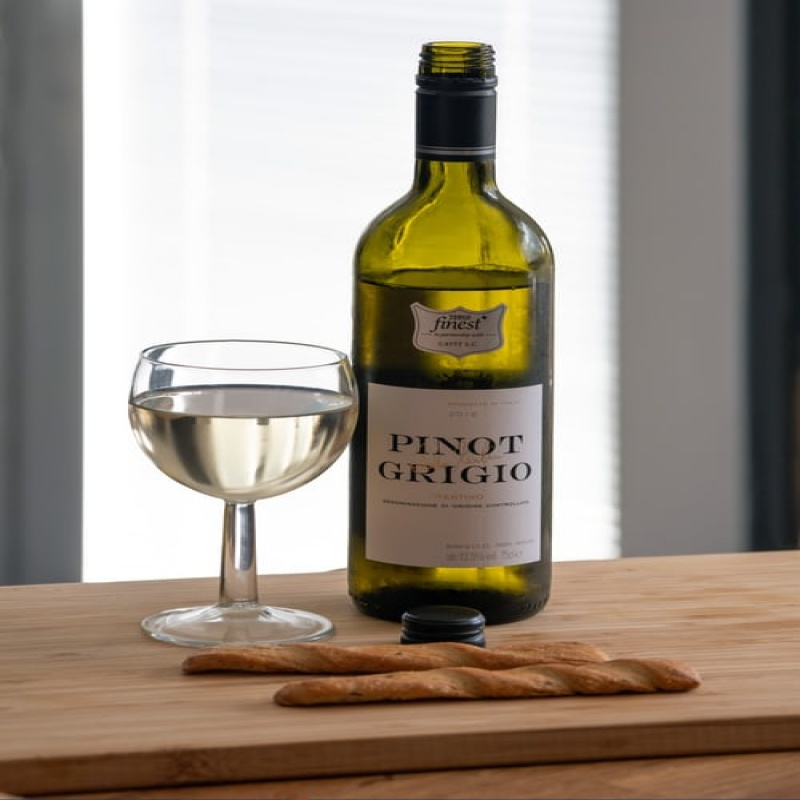wine: (347, 47, 548, 622)
